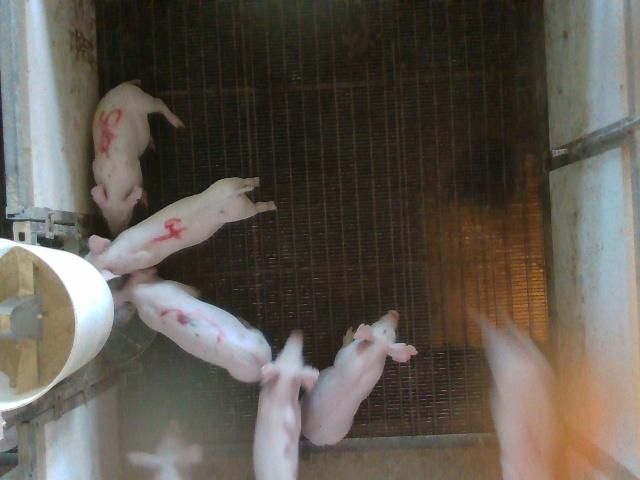pig-1: (476, 314, 556, 479)
pig-2: (254, 330, 319, 479)
pig-3: (112, 268, 271, 382)
pig-4: (86, 178, 276, 279)
pig-5: (91, 81, 184, 236)
